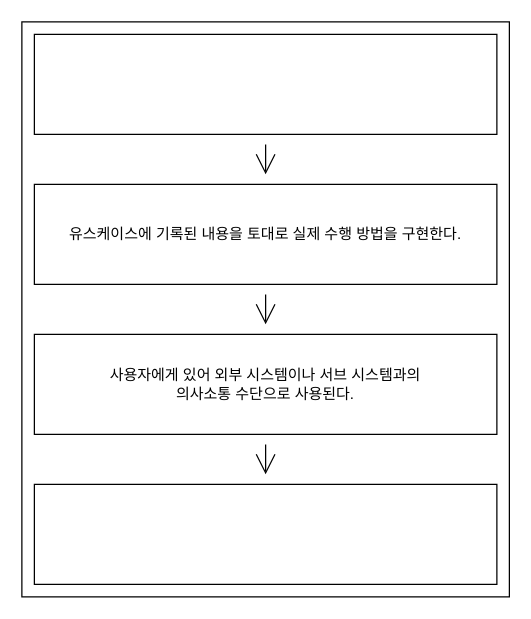
Image size: 531x619. Some labels were removed from this diagram. Here are the shapes that lost their labels. From the top down, the centre of each, then its label:
At point 265,83: "사용자 측면에서의 요구사항이며, 기능 개선이 중점이다. 사용자가 원하는 목표를 위하여 수행해야 할 내용을 기술한다.".
At point 265,533: "하나의 단위 업무에 대한 독립적인 기능을 수행할 수 있도록 한다.".
